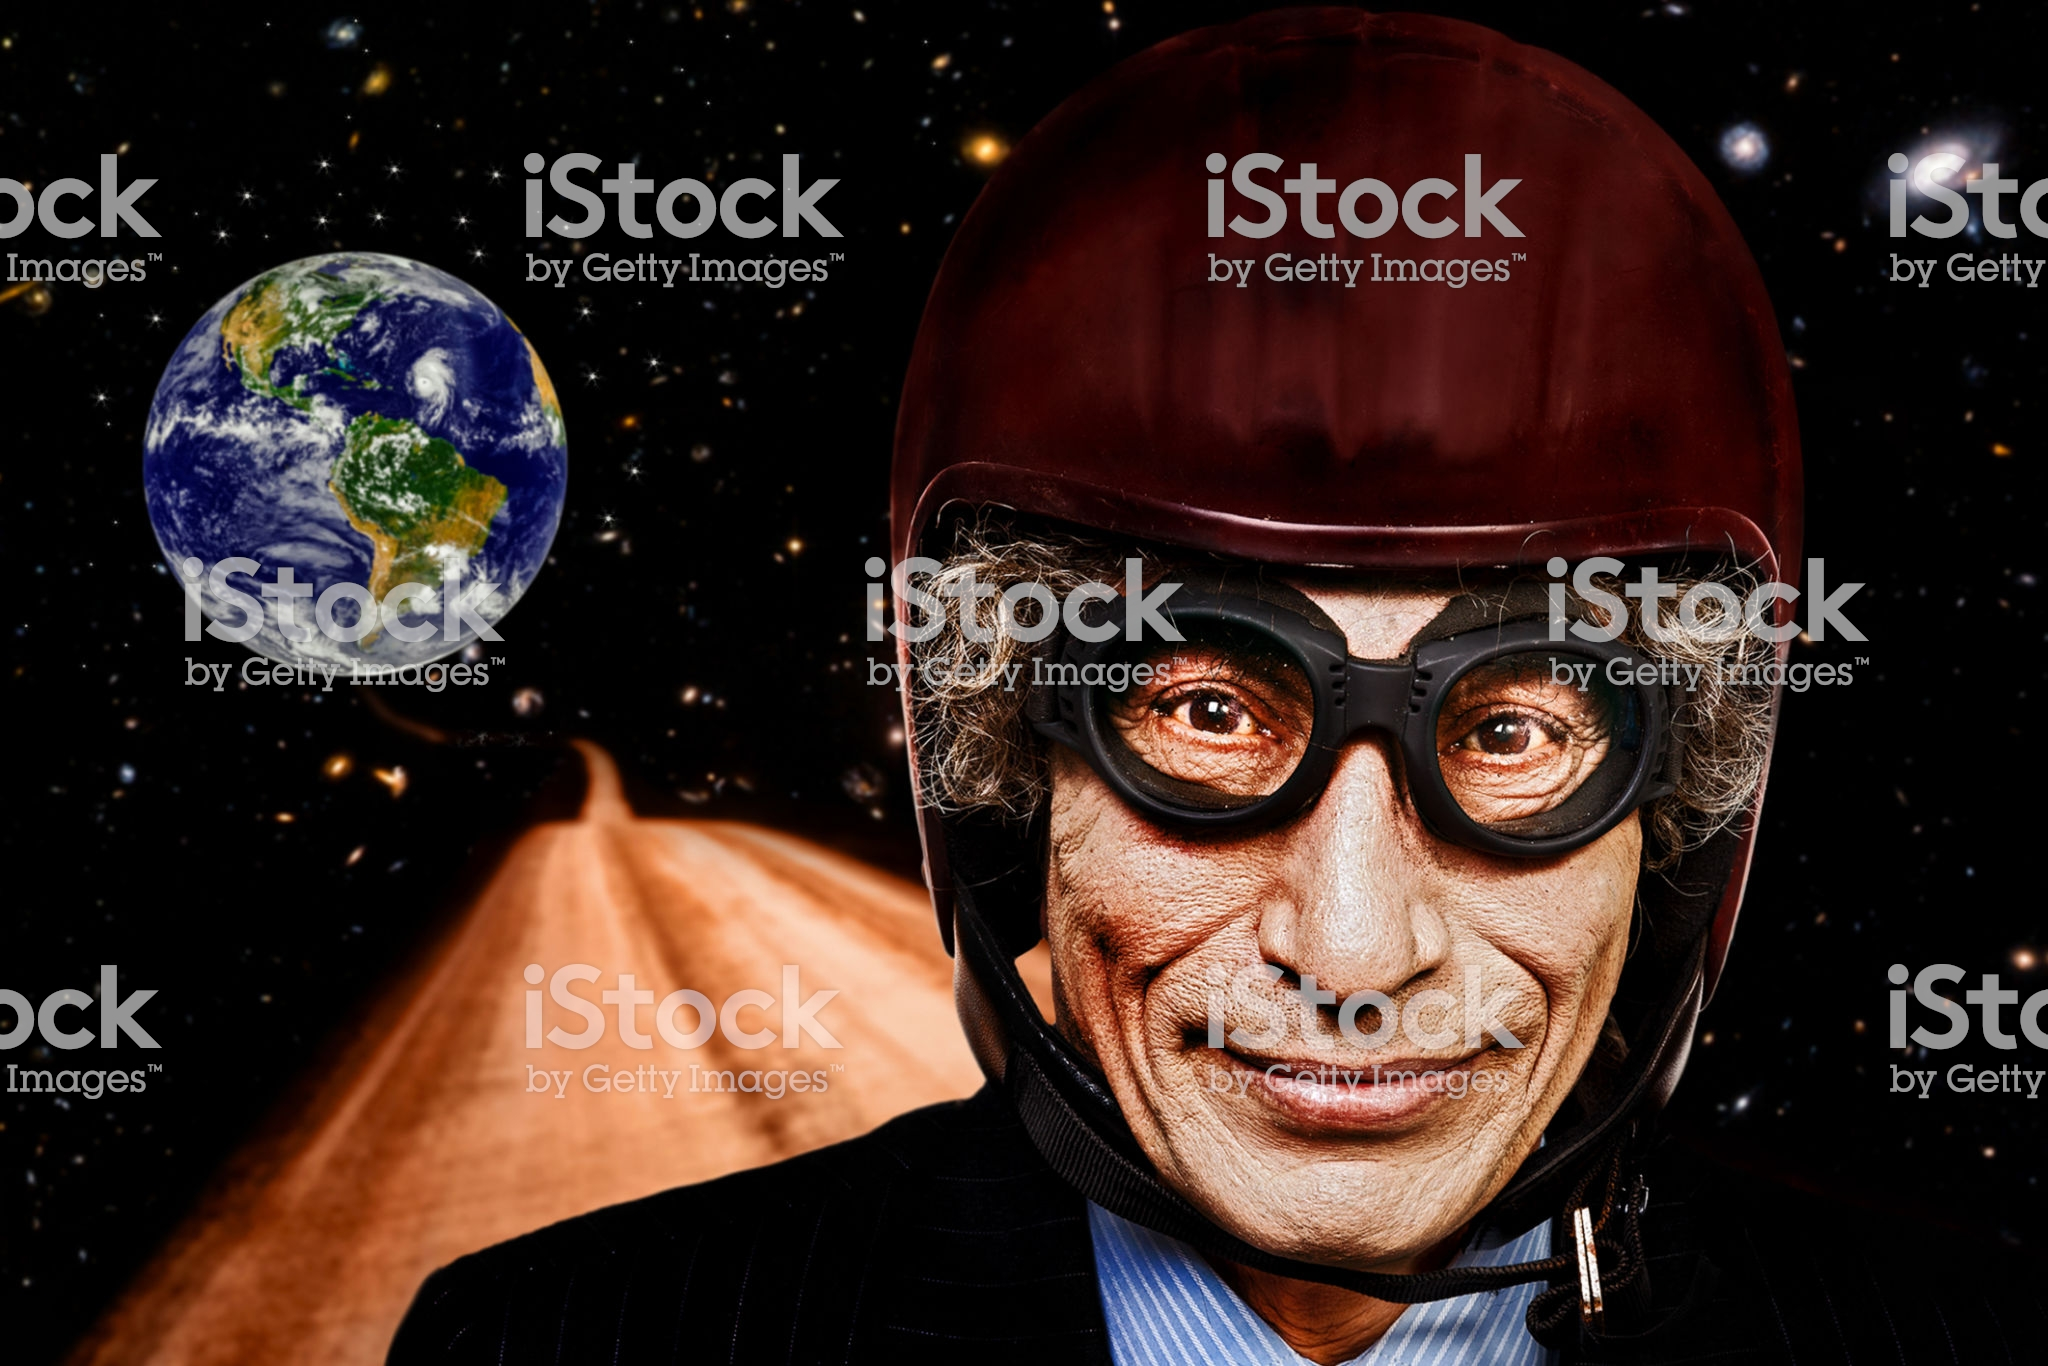helmet: (873, 56, 1865, 631)
